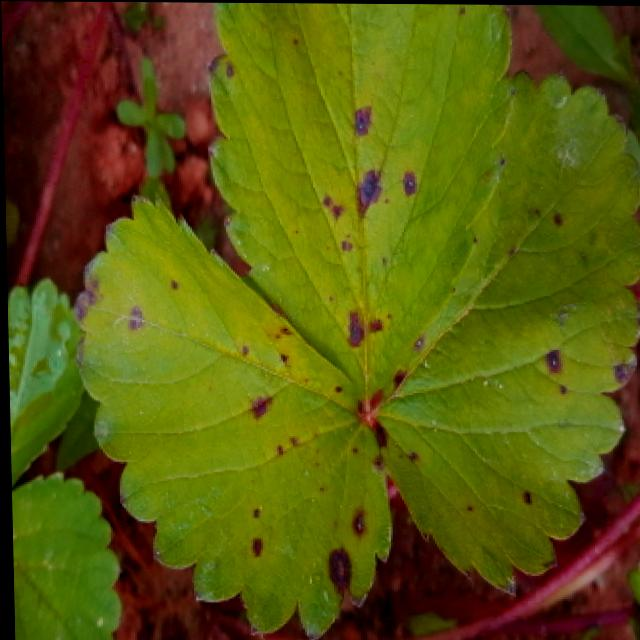Leaf Spot: (369, 65, 640, 599), (67, 194, 391, 640), (204, 1, 514, 404)
